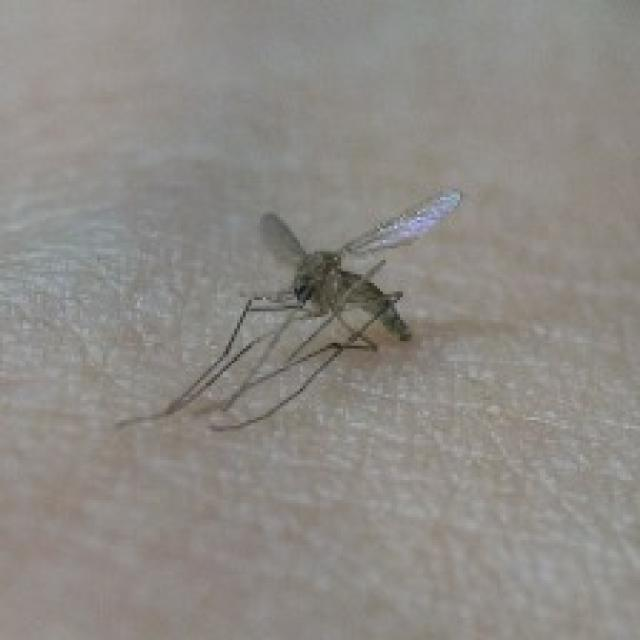culex: (114, 186, 463, 434)
